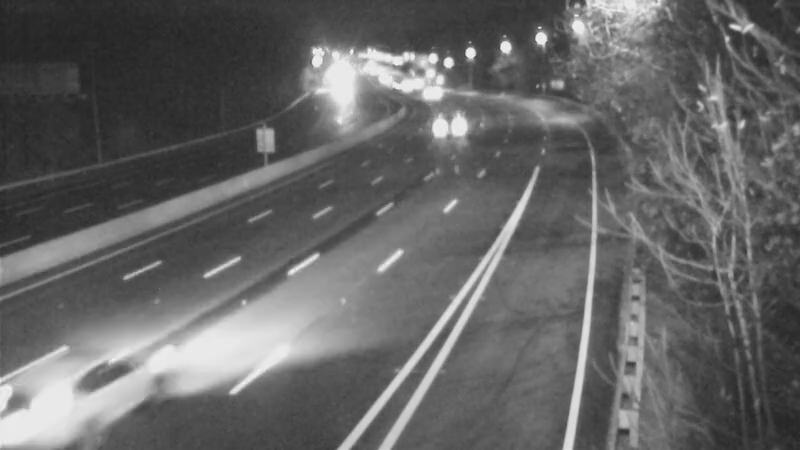vehicle: (44, 334, 154, 444), (404, 69, 454, 119), (423, 100, 473, 150)
